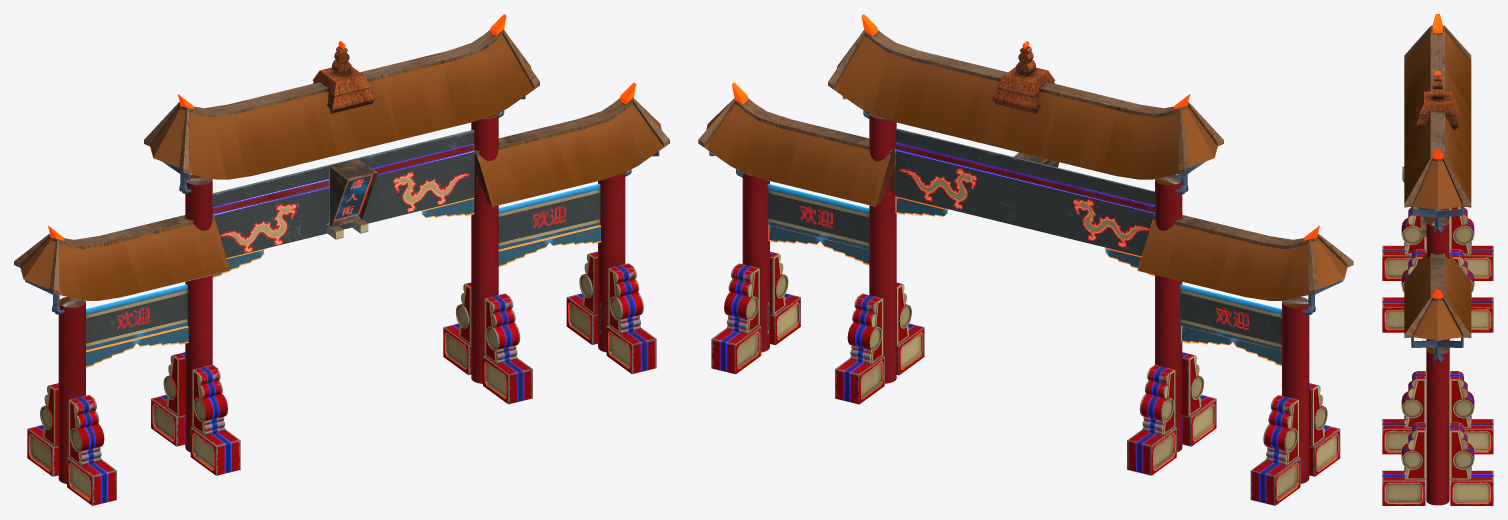
File: Cyberpunk Torii Gate.glb
3 views of the same model, side by side, from view 1: azimuth 30°, elevation 25°; view 2: azimuth 150°, elevation 25°; view 3: azimuth 270°, elevation 25° (orthographic). The views are drawn at different scales.
Parts seen in each view (by area): view 1: Torii_Gate; view 2: Torii_Gate; view 3: Torii_Gate.
Boxes of the visible parts, <box> form: Torii_Gate: <box>14,14,669,505</box>; Torii_Gate: <box>698,14,1353,505</box>; Torii_Gate: <box>1382,14,1493,505</box>.
Bounding box in the file's own units: 225932 × 125683 × 40089.
1 material, 1 textured.
